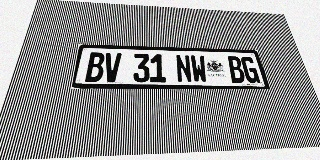1: (150, 54, 166, 82)
3: (133, 53, 149, 82)
B: (85, 52, 105, 82), (226, 56, 246, 83)
G: (240, 56, 260, 83)
N: (175, 55, 193, 83)
V: (103, 53, 121, 82)
W: (190, 55, 208, 83)
